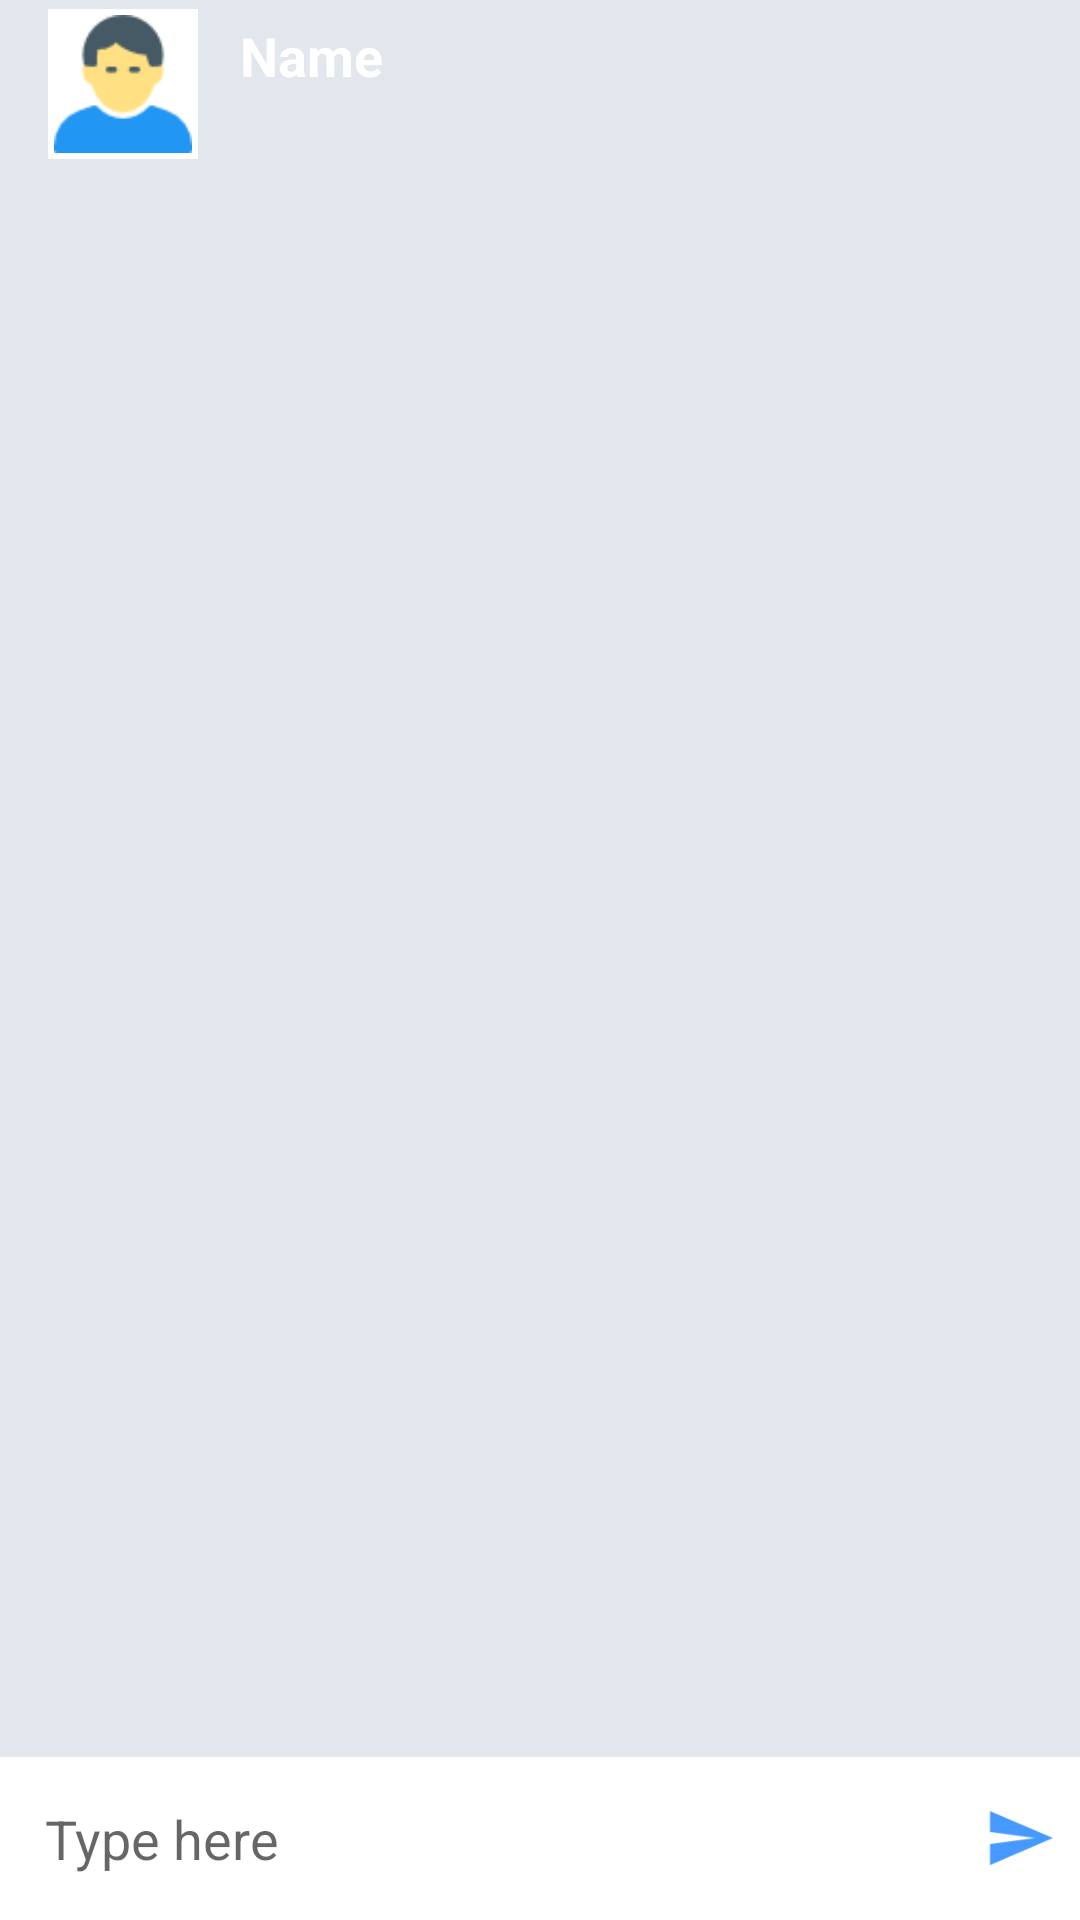

Icon click points for this 1080 × 1920 phone screenshot, format [x,y]:
man: [123,84]
send: [1021,1838]
